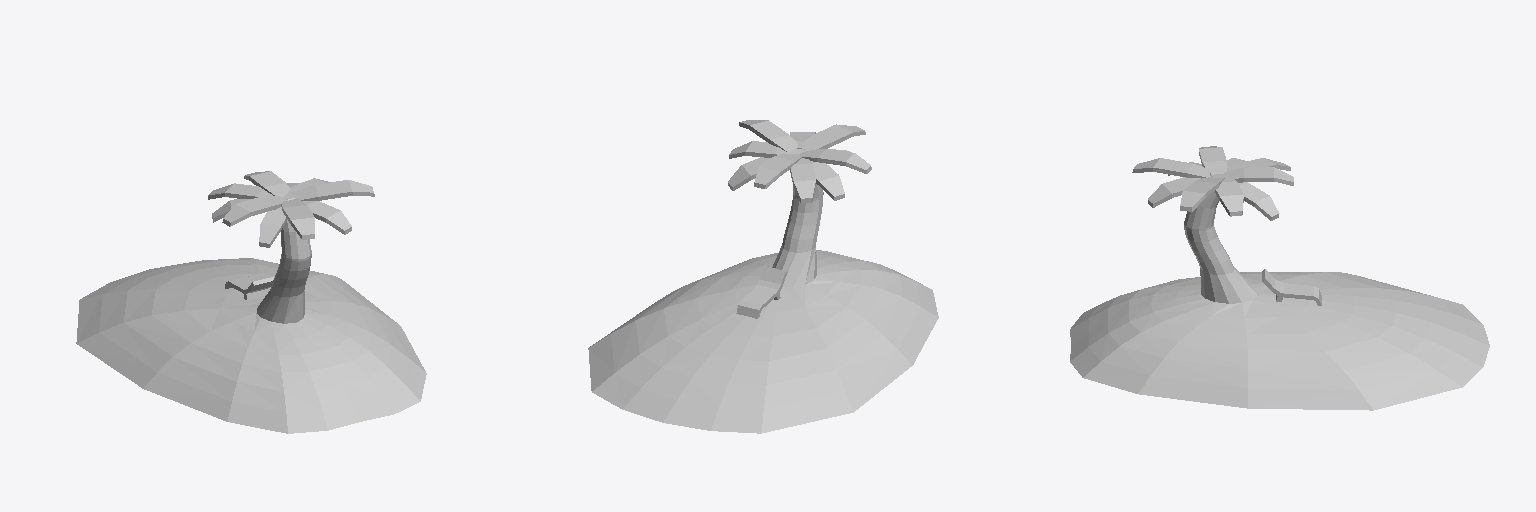
The model's file is IslandSet.obj.
3 renders of one model, left to right at view 1: azimuth 30°, elevation 25°; view 2: azimuth 150°, elevation 25°; view 3: azimuth 270°, elevation 25°, orthographic.
Parts seen in each view (by area): view 1: loftedSurface3, pCylinder4, pCube4, pCube8, pCube6, pCube5, pCube7, pCube11, pCube10, pCube1; view 2: loftedSurface3, pCylinder4, pCube11, pCube6, pCube8, pCube4, pCube1, pCube10, pCube9, pCube3, pCube2; view 3: loftedSurface3, pCylinder4, pCube6, pCube11, pCube1, pCube4, pCube3, pCube2, pCube5, pCube8.
Boxes of the visible parts, <box> form: loftedSurface3: <box>76,258,426,433</box>; pCylinder4: <box>257,197,311,323</box>; pCube4: <box>291,180,374,200</box>; pCube8: <box>222,196,285,226</box>; pCube6: <box>281,199,314,239</box>; pCube5: <box>302,201,351,234</box>; pCube7: <box>259,207,287,247</box>; pCube11: <box>225,276,273,300</box>; pCube10: <box>208,183,272,199</box>; pCube1: <box>244,171,290,196</box>; loftedSurface3: <box>588,250,938,433</box>; pCylinder4: <box>772,148,823,286</box>; pCube11: <box>736,266,787,318</box>; pCube6: <box>798,124,865,151</box>; pCube8: <box>799,149,871,173</box>; pCube4: <box>739,120,797,152</box>; pCube1: <box>754,154,801,188</box>; pCube10: <box>790,158,815,202</box>; pCube9: <box>811,161,844,200</box>; pCube3: <box>729,141,801,158</box>; pCube2: <box>728,157,770,190</box>; loftedSurface3: <box>1070,272,1489,410</box>; pCylinder4: <box>1184,173,1258,303</box>; pCube6: <box>1132,158,1214,178</box>; pCube11: <box>1262,269,1321,305</box>; pCube1: <box>1222,167,1293,185</box>; pCube4: <box>1180,177,1224,211</box>; pCube3: <box>1211,174,1243,216</box>; pCube2: <box>1238,182,1279,220</box>; pCube5: <box>1148,177,1200,207</box>; pCube8: <box>1199,146,1226,173</box>.
Bounding box in the file's own units: 16.34 × 10.59 × 22.43.